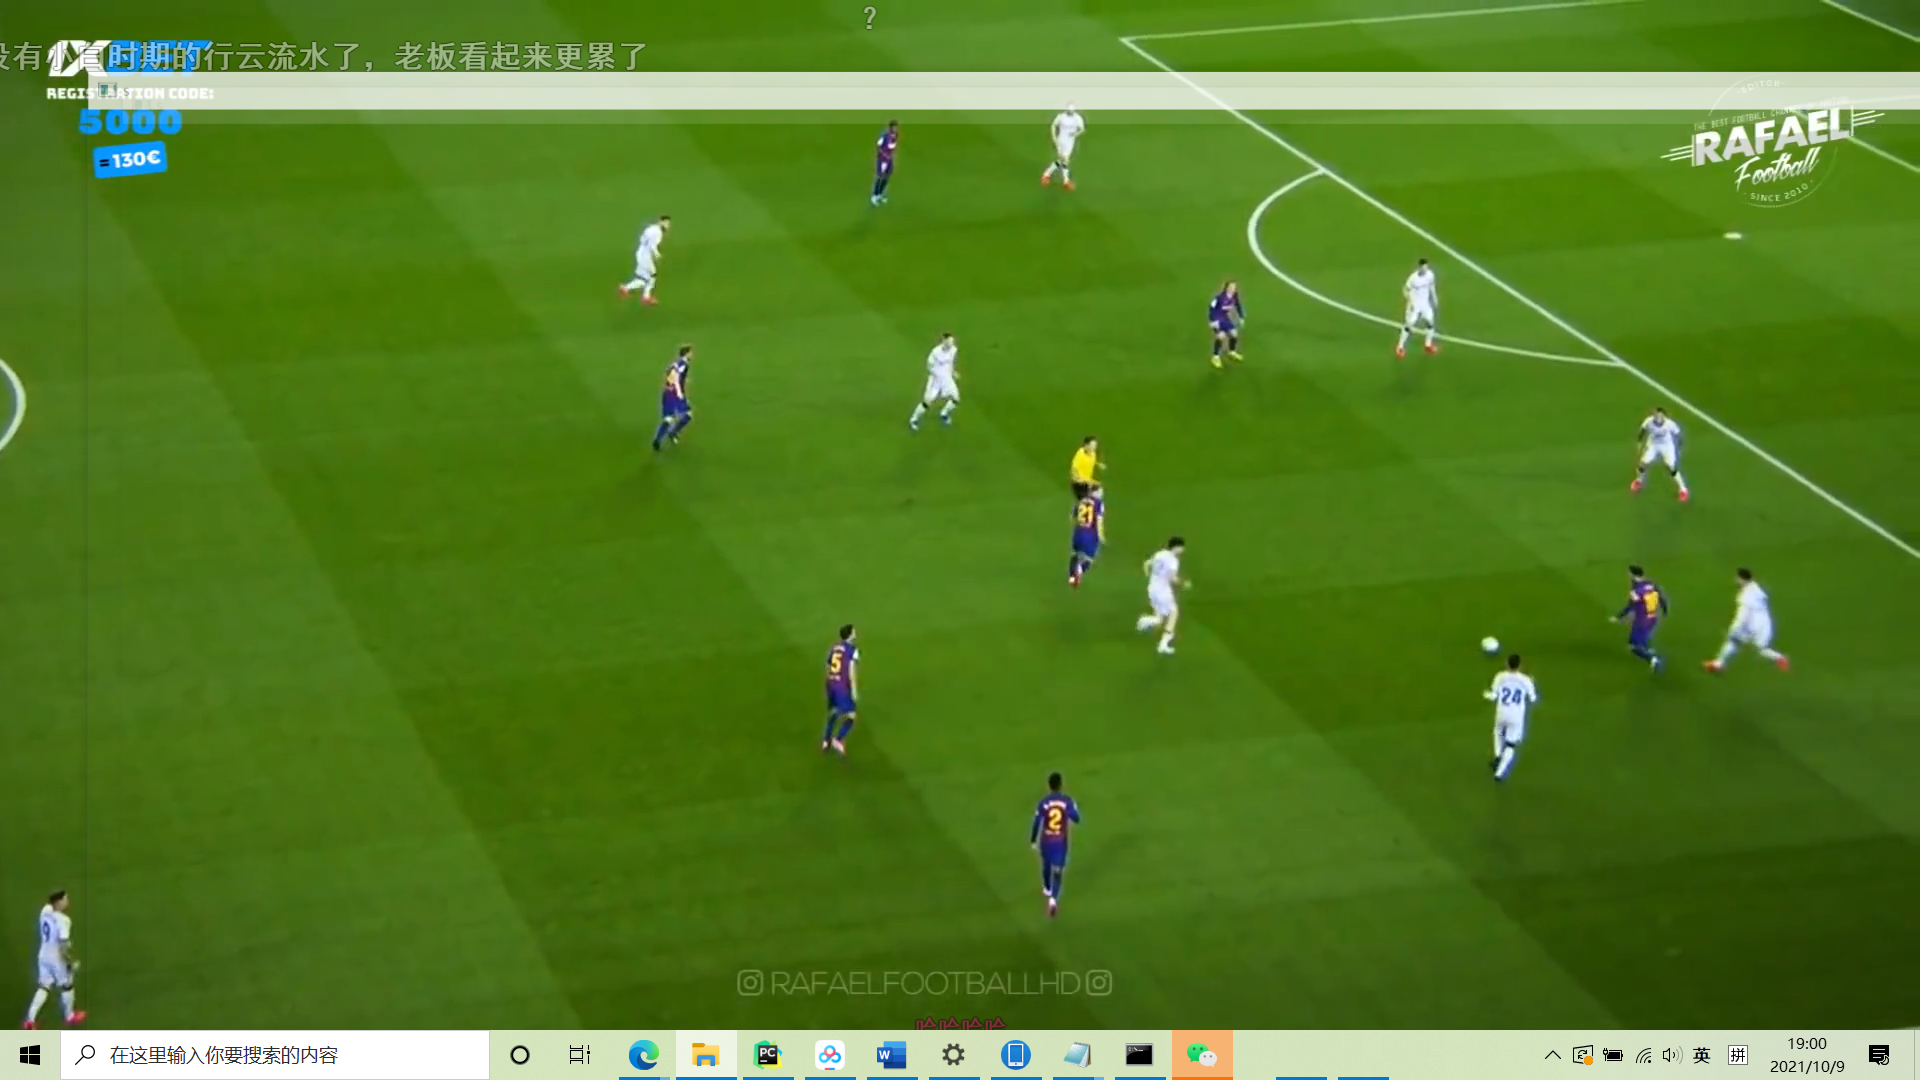ft: (1480, 632, 1501, 655)
